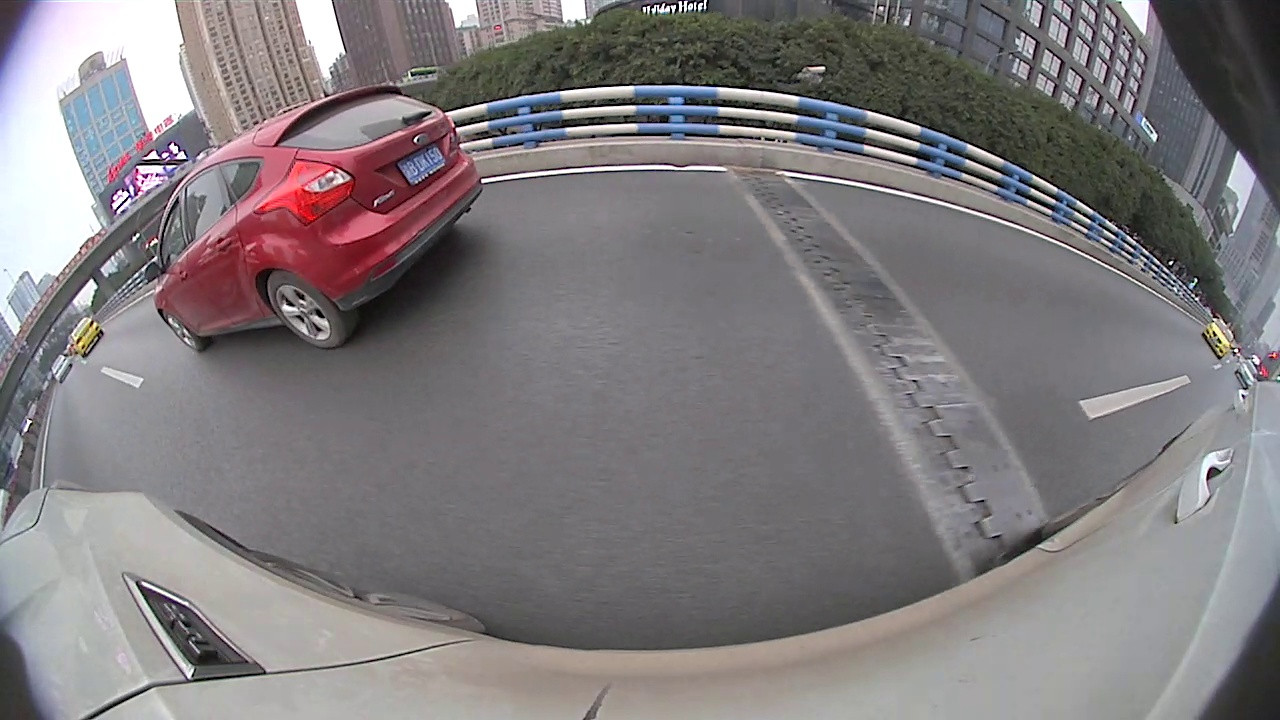car: (795, 131, 1023, 266), (1008, 218, 1209, 341), (409, 144, 558, 238), (1179, 306, 1278, 443), (616, 132, 731, 228), (745, 145, 837, 200), (1015, 205, 1072, 251), (541, 155, 586, 194), (607, 152, 633, 194), (721, 155, 747, 189), (575, 161, 602, 186)
front: (1208, 374, 1266, 441), (1007, 236, 1034, 269), (797, 183, 817, 217), (550, 183, 559, 205)
rear: (876, 200, 918, 255), (1124, 290, 1161, 335), (511, 187, 527, 224), (772, 174, 784, 198)
